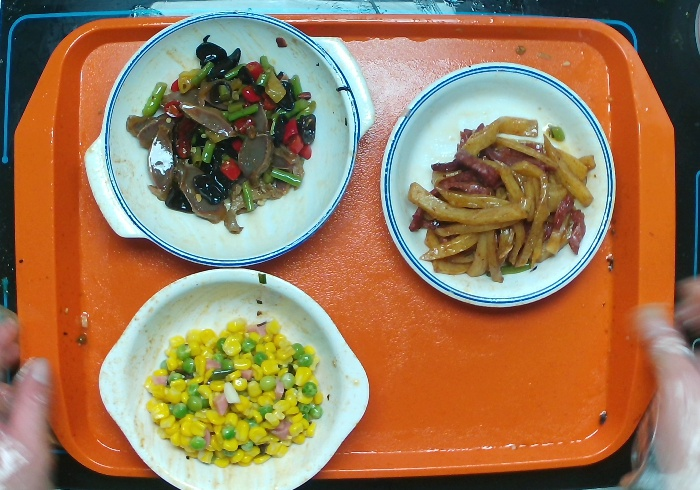HZYJPL-Dai_Er_Bai_Yuan_Wan: (93, 265, 368, 487)
HZYJPL-Lan_Bian_Dai_Er_Wan: (75, 1, 374, 261)
HZYJPL-Lan_Bian_Yuan_Die: (373, 56, 624, 306)
